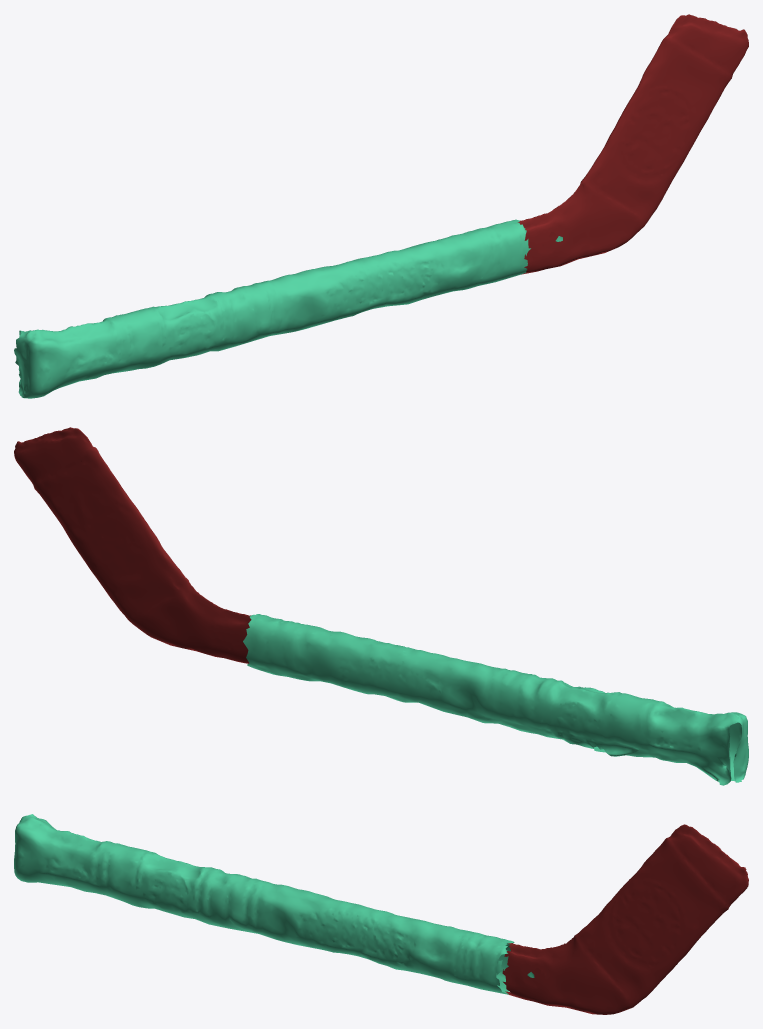
The model's file is object_deformed_3.obj.
The picture shows the model from 3 angles, top to bottom: view 1: azimuth 30°, elevation 25°; view 2: azimuth 150°, elevation 25°; view 3: azimuth 330°, elevation 25°; orthographic projection. The views are drawn at different scales.
Bounding box in the file's own units: 0.6063 × 0.1655 × 0.0383.
